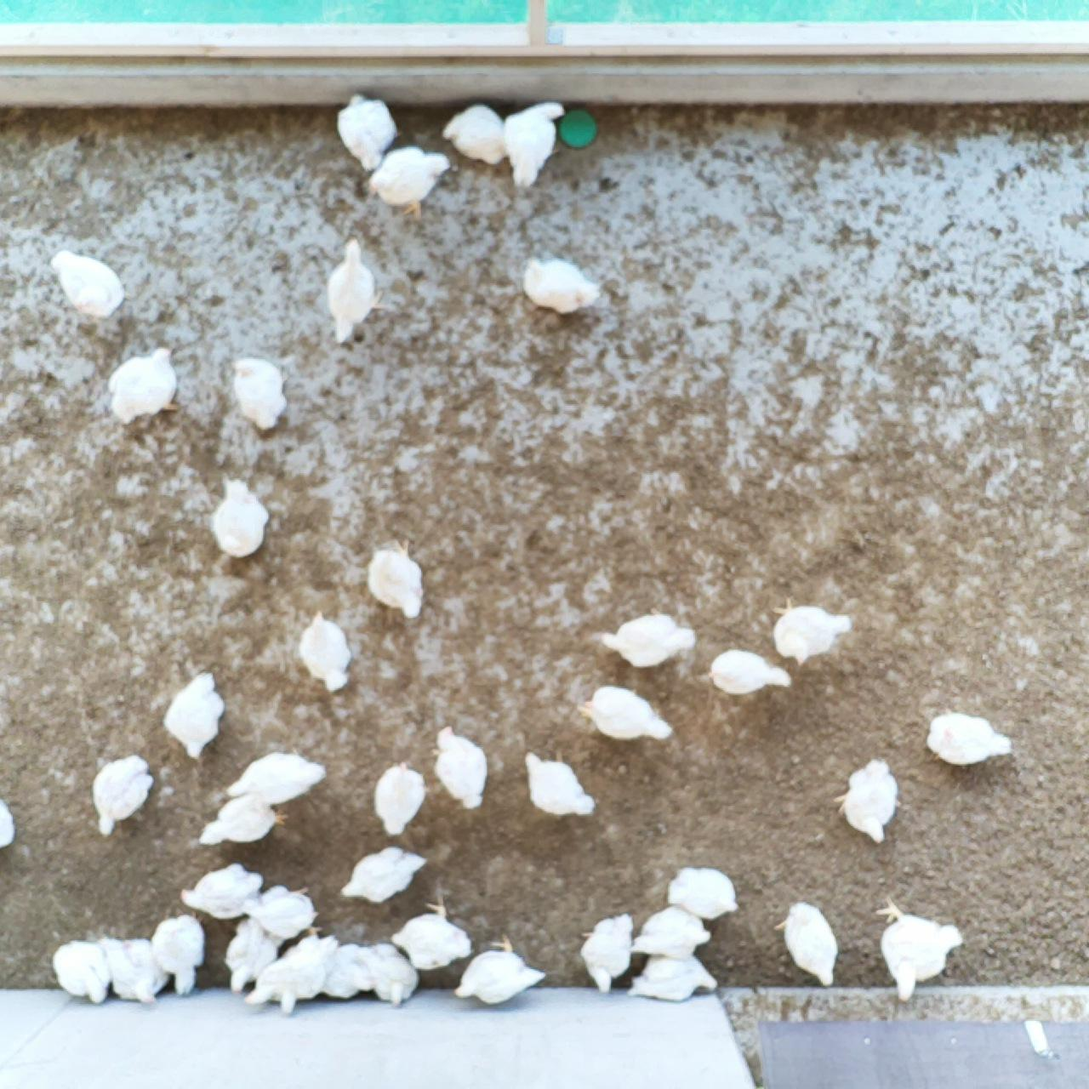chicken: (874, 888, 967, 1005), (363, 142, 454, 226), (451, 932, 549, 1008), (387, 893, 475, 974), (325, 235, 387, 348), (769, 899, 845, 990), (832, 753, 904, 848), (599, 602, 698, 671), (106, 345, 183, 429), (768, 595, 854, 670), (919, 704, 1015, 771), (49, 246, 131, 324), (502, 99, 572, 190), (576, 683, 676, 745), (160, 669, 228, 760), (224, 747, 330, 805), (88, 752, 155, 842), (522, 741, 599, 819), (275, 931, 341, 1019), (337, 844, 430, 906), (294, 607, 358, 697), (361, 536, 427, 621), (209, 473, 273, 560), (150, 905, 211, 996), (519, 251, 604, 316), (428, 722, 490, 811), (178, 859, 267, 921), (197, 793, 292, 850), (335, 89, 401, 171), (221, 916, 286, 997), (100, 935, 173, 1006), (229, 353, 290, 435), (628, 904, 715, 961), (579, 909, 636, 995), (438, 101, 509, 168), (627, 952, 720, 1003), (372, 758, 428, 841), (240, 883, 320, 941), (354, 943, 422, 1011), (704, 647, 797, 696), (663, 863, 741, 921), (50, 936, 114, 1006), (318, 941, 377, 1001), (239, 953, 287, 1009), (0, 795, 19, 851)
